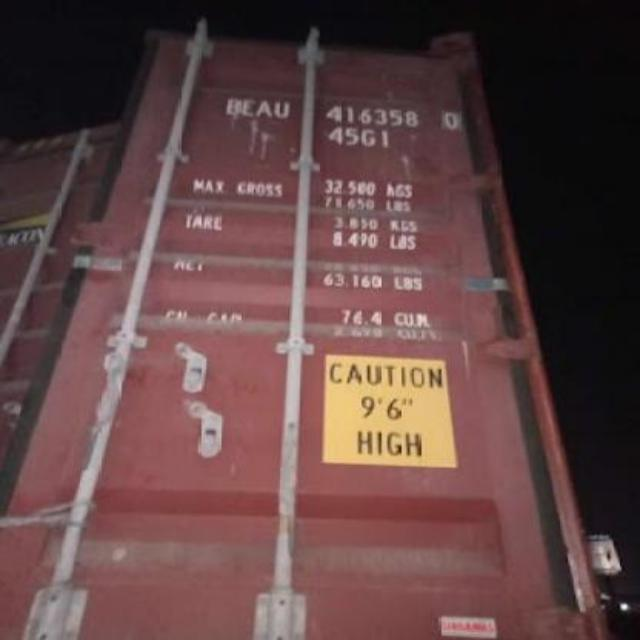0: (441, 108, 462, 132)
1: (344, 100, 356, 124)
3: (374, 102, 388, 126)
4: (324, 100, 344, 124)
5: (388, 99, 402, 128)
6: (358, 100, 372, 124)
8: (404, 108, 422, 128)
A: (258, 94, 274, 122)
B: (224, 94, 240, 115)
E: (240, 90, 256, 120)
U: (274, 97, 290, 123)
